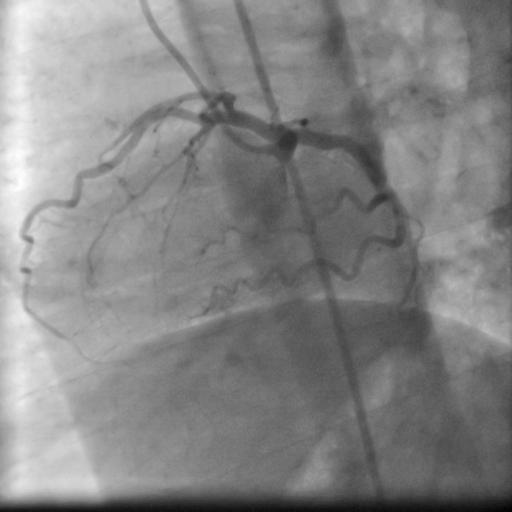Stenosis: (373, 184, 392, 193)
